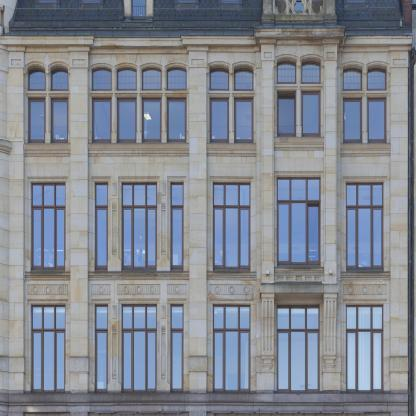Balcony: (274, 0, 325, 21)
Building Outline: (0, 0, 416, 416)
Cornice: (275, 158, 323, 176), (211, 163, 253, 181), (344, 163, 385, 181), (120, 163, 159, 181), (29, 164, 67, 181), (90, 54, 112, 68), (115, 54, 137, 68), (47, 53, 70, 66), (276, 45, 297, 59), (25, 53, 47, 66), (140, 54, 162, 67), (166, 54, 187, 67), (209, 52, 230, 65), (233, 53, 254, 66), (301, 45, 322, 58), (367, 52, 388, 65), (343, 53, 363, 66), (172, 163, 182, 181), (96, 163, 106, 181)
Facade: (0, 0, 416, 416)
Floor: (1, 161, 416, 280), (1, 43, 416, 155), (1, 287, 416, 394)
Floor Slab: (1, 155, 416, 161), (1, 281, 416, 287), (1, 394, 416, 400), (1, 37, 412, 43)
Molding: (118, 284, 161, 295), (210, 284, 253, 295), (343, 285, 387, 295), (28, 285, 68, 295), (92, 284, 111, 295), (168, 284, 187, 295)
Pillar: (187, 45, 209, 394), (68, 46, 90, 394), (389, 45, 411, 393), (256, 39, 276, 394), (322, 38, 341, 394), (7, 46, 25, 394)
Roof: (0, 0, 413, 38)
Top Floor: (1, 0, 416, 37)
Window: (277, 177, 320, 267), (277, 306, 320, 393), (346, 304, 384, 393), (346, 183, 384, 272), (213, 182, 250, 271), (213, 304, 250, 392), (122, 304, 157, 393), (122, 183, 157, 271), (32, 304, 66, 393), (32, 183, 66, 271), (171, 304, 184, 393), (171, 182, 184, 271), (95, 305, 108, 393), (95, 183, 108, 271), (367, 97, 387, 143), (117, 97, 137, 143), (92, 97, 112, 143), (301, 91, 321, 137), (142, 97, 161, 143), (167, 97, 186, 143), (210, 97, 229, 143), (234, 97, 253, 143), (277, 91, 296, 137), (343, 97, 362, 143), (28, 98, 46, 144), (51, 98, 68, 144), (367, 65, 387, 91), (343, 65, 363, 91), (234, 65, 254, 91), (209, 65, 229, 91), (277, 58, 297, 84), (116, 67, 137, 91), (141, 67, 162, 91), (166, 67, 187, 91), (27, 65, 46, 91), (302, 58, 321, 84), (92, 67, 112, 91), (50, 65, 68, 91), (292, 0, 305, 16), (133, 0, 145, 16)
